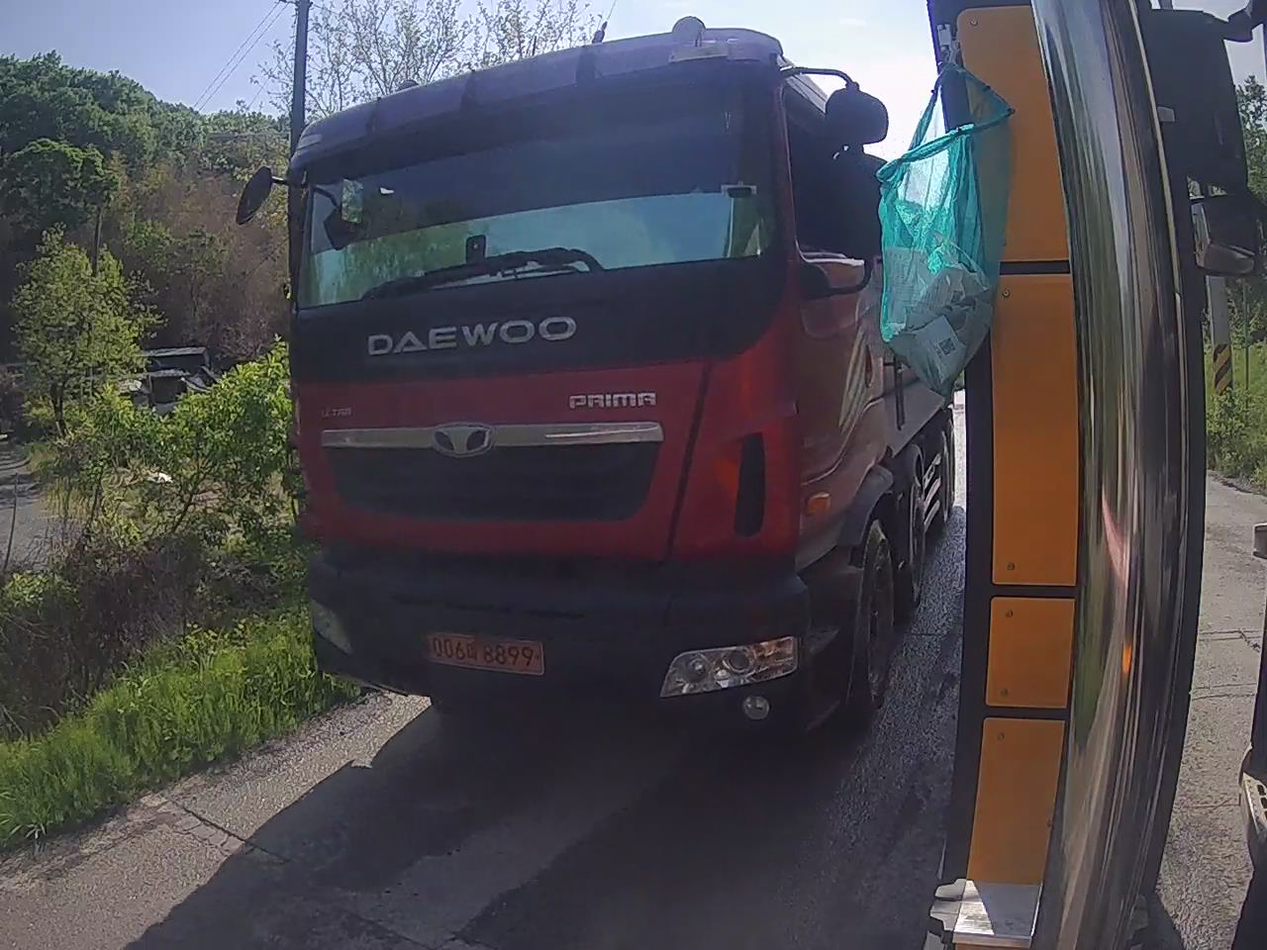license_plate: (428, 633, 542, 675)
truck: (240, 19, 953, 727)
